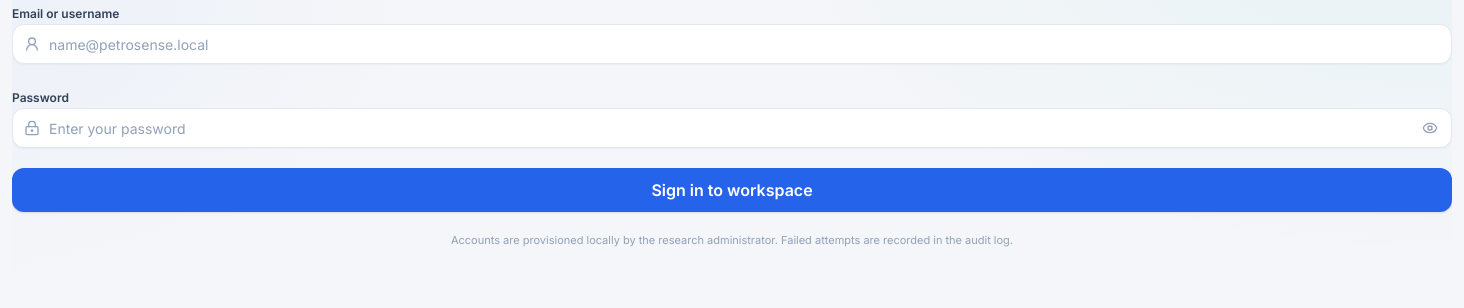
Test: LoginForm › shows validation messages for an empty submission
Click the button "Sign in to workspace" at [732, 190], box x1=12 y1=168 x2=1452 y2=212
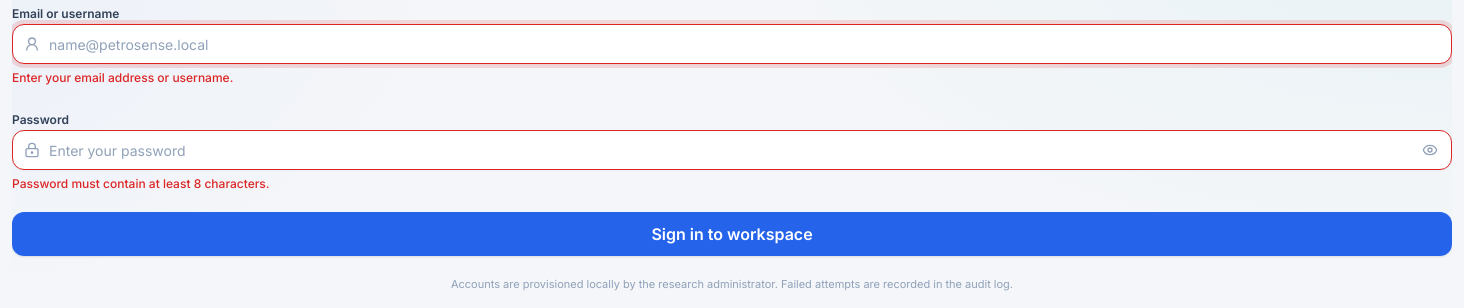
Now the text "Enter your email address or username." is shown, box x1=12 y1=70 x2=233 y2=85
Now the text "Password must contain at least 8 characters." is shown, box x1=12 y1=176 x2=270 y2=191
